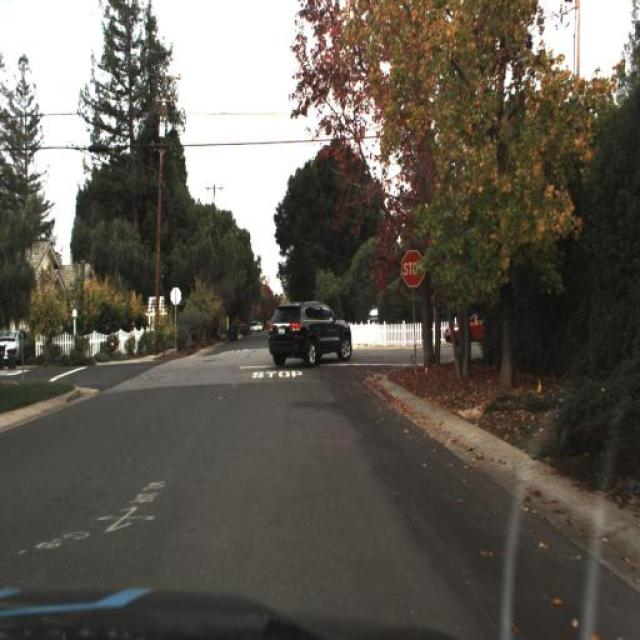car: (265, 289, 357, 370), (442, 302, 491, 353), (247, 318, 261, 338), (256, 319, 266, 335)
